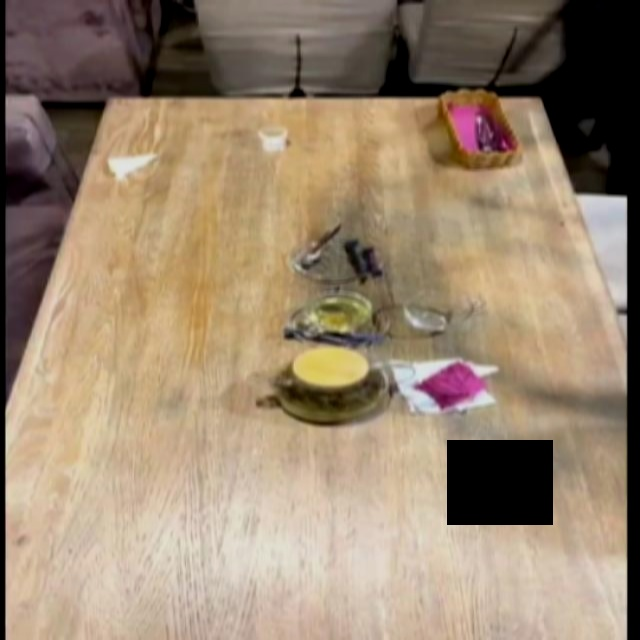tea: (268, 345, 390, 424)
